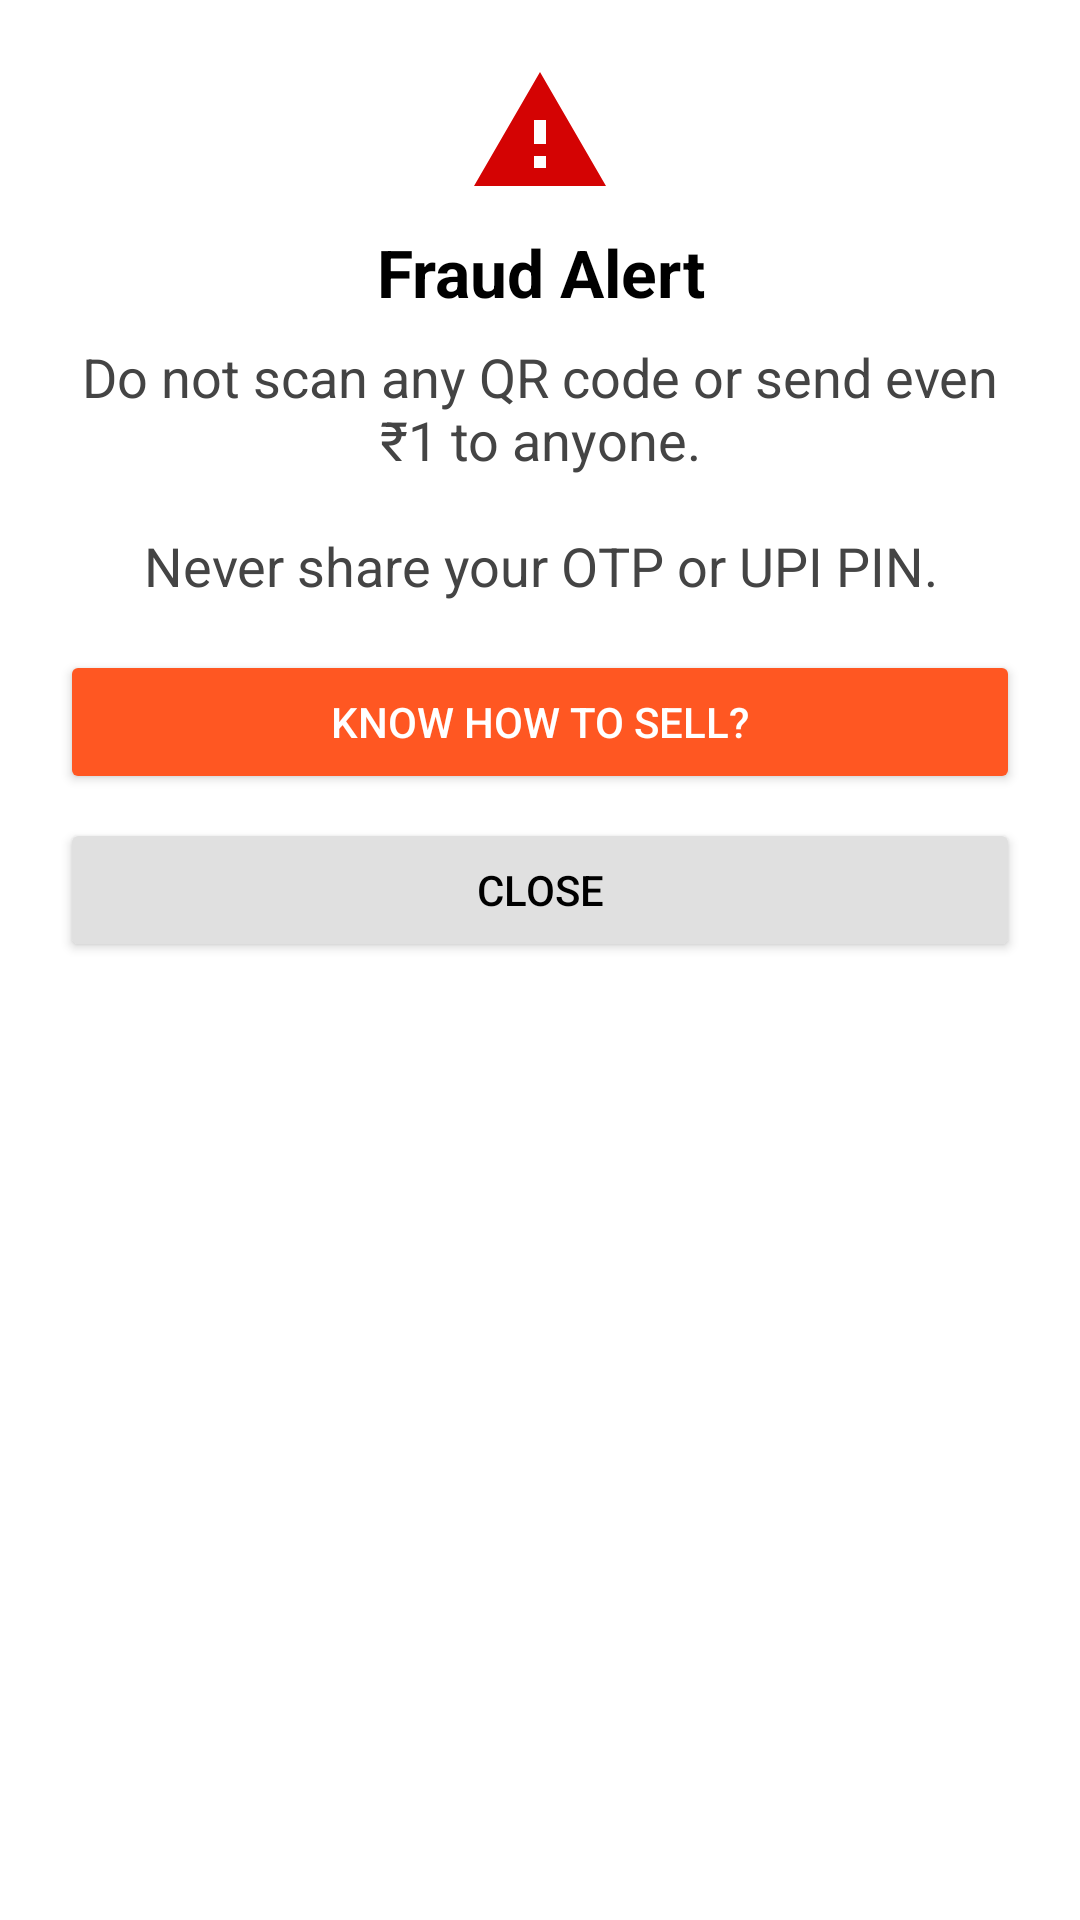

Icons on this 1080px x 1920px Android screen, each with its box as (x1, y1, x2, y2):
Warning: (474, 72, 606, 186)
